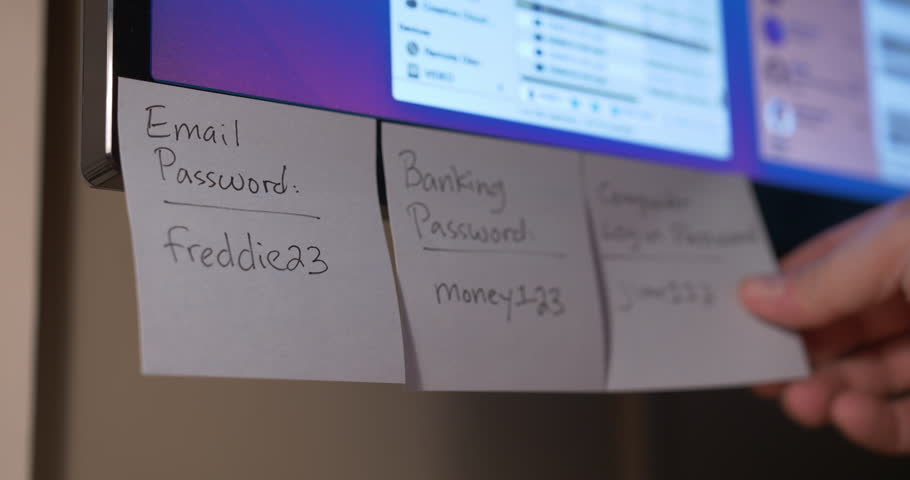Note: (113, 70, 406, 385), (382, 120, 604, 397), (584, 152, 807, 391)
